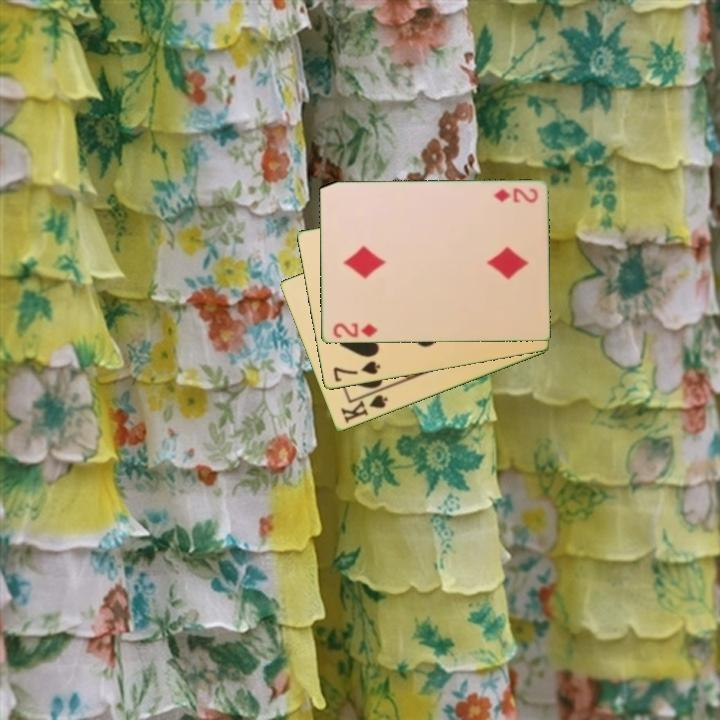2d: (329, 320, 380, 341), (490, 185, 540, 206)
7s: (329, 358, 383, 385)
Ks: (337, 392, 391, 427)
